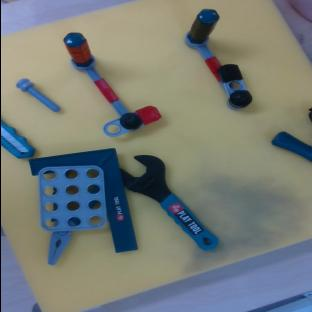non_pass: (176, 5, 254, 118)
pass: (36, 27, 162, 153)
